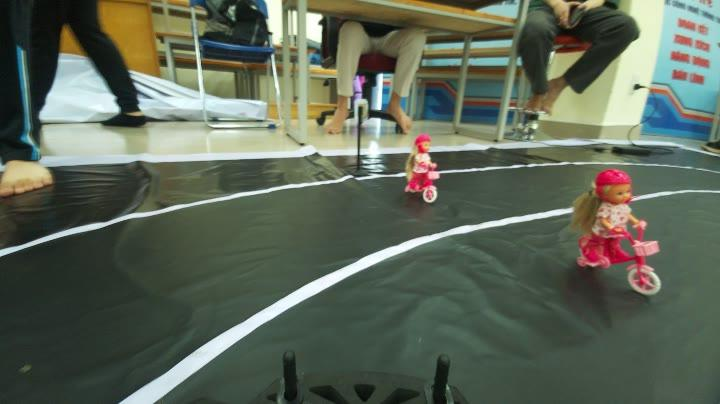pedestrian: (560, 164, 669, 300), (398, 128, 450, 210)
